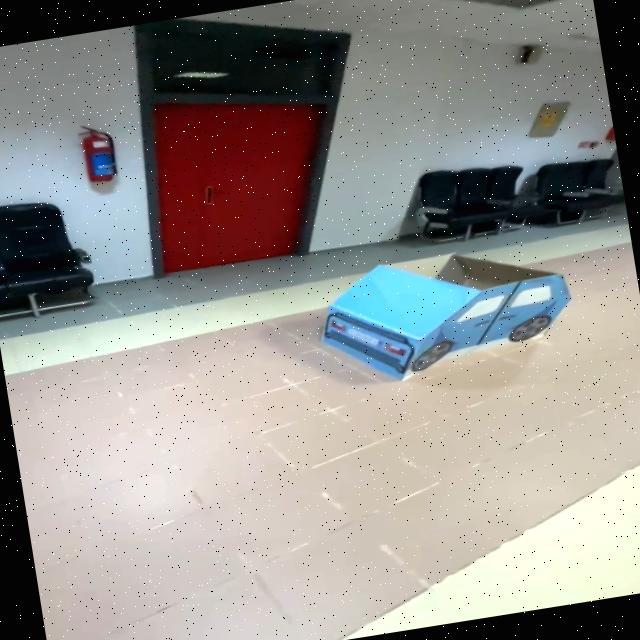blue_car: (294, 221, 601, 402)
